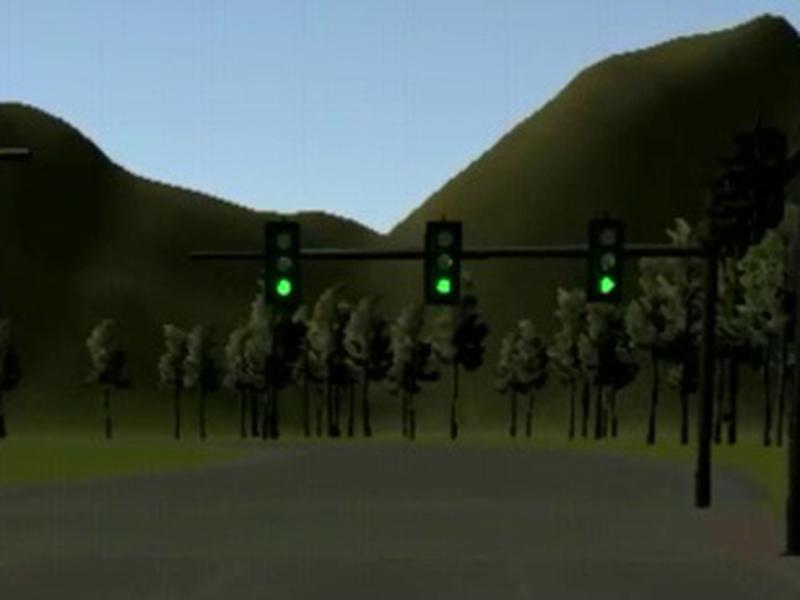Green: (424, 220, 462, 305), (588, 219, 626, 303), (265, 222, 300, 304)
